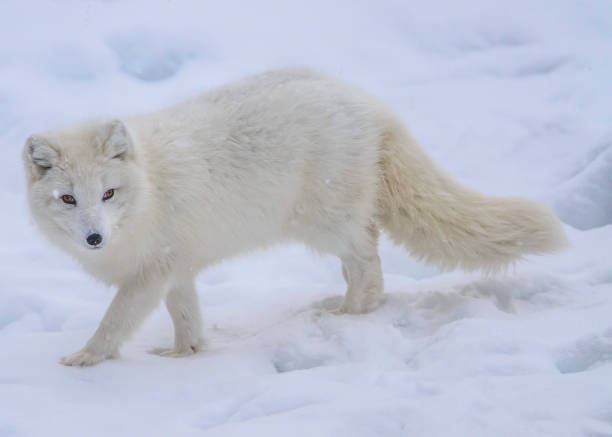arcticfox: (37, 145, 141, 265)
